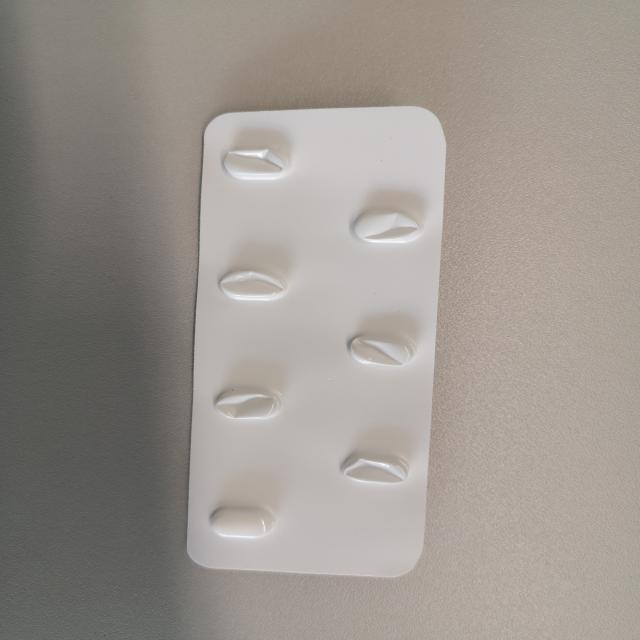Empty: (329, 322, 424, 380), (208, 256, 294, 313), (336, 205, 432, 256), (200, 377, 297, 426), (206, 139, 297, 190), (332, 442, 419, 495)
Pill: (202, 497, 290, 550)
